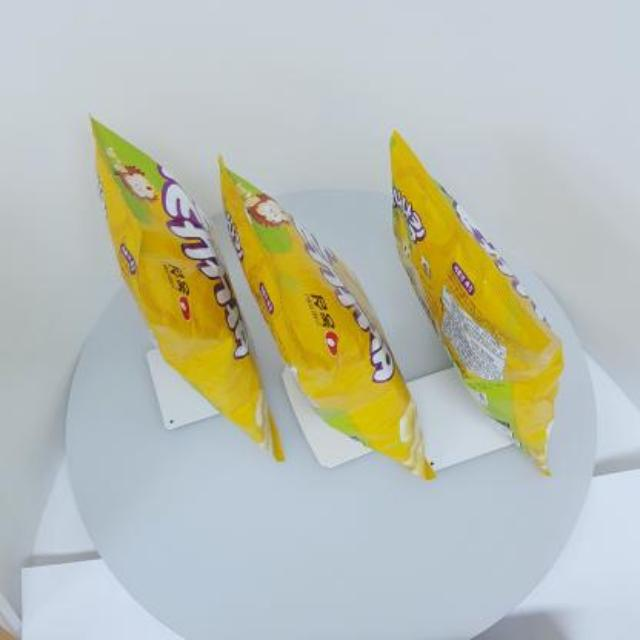snack_bag: (76, 104, 580, 486)
